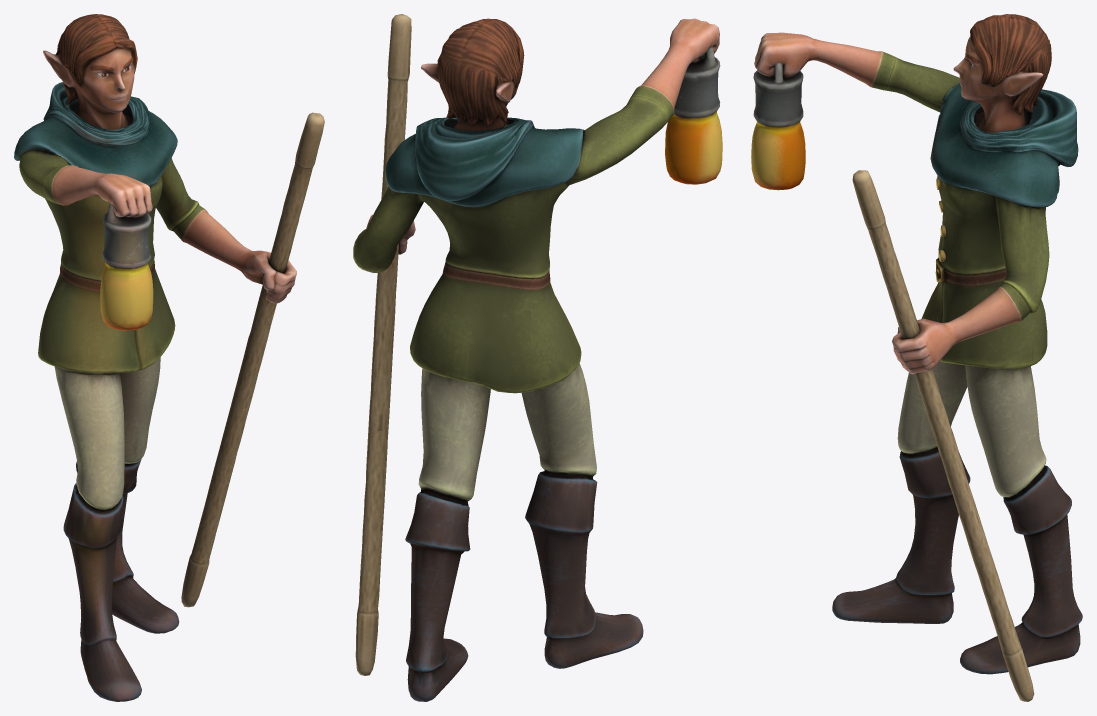
The model's file is MZ4250 - NPC Commoner Female 01.glb.
3 renders of one model, left to right at view 1: azimuth 30°, elevation 25°; view 2: azimuth 150°, elevation 25°; view 3: azimuth 270°, elevation 25°, orthographic. The views are drawn at different scales.
Parts seen in each view (by area): view 1: body_low.001, stick_low.001, lamp_low.001; view 2: body_low.001, stick_low.001, lamp_low.001; view 3: body_low.001, stick_low.001, lamp_low.001.
Part boxes in pixels (x1,y1,x2,y2): body_low.001: (14, 14, 296, 701); stick_low.001: (181, 112, 324, 607); lamp_low.001: (100, 203, 153, 330); body_low.001: (353, 18, 719, 701); stick_low.001: (355, 14, 411, 675); lamp_low.001: (665, 47, 722, 184); body_low.001: (754, 14, 1082, 674); stick_low.001: (852, 170, 1034, 701); lamp_low.001: (751, 63, 805, 190).
Size of the model in its own units: 2.9 by 6.45 by 3.05.
1 material, 1 textured.
